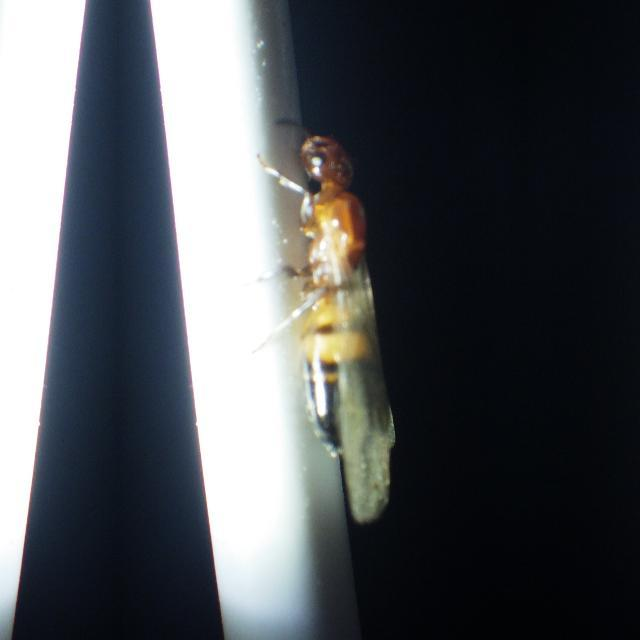Colobopsis: (256, 102, 380, 490)
